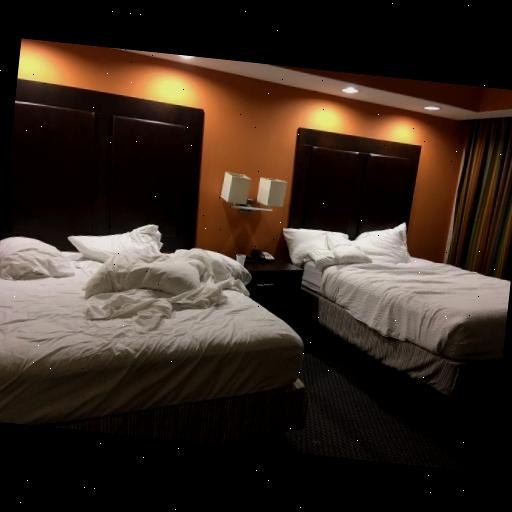Disorganized_pillow: (2, 208, 170, 298), (294, 212, 416, 279)
messy_bed: (0, 79, 305, 442), (288, 128, 510, 395)
